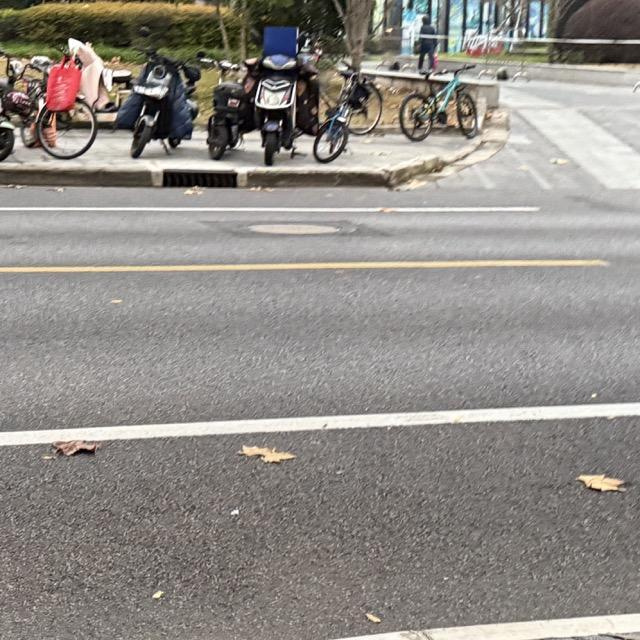curb: (0, 156, 451, 189), (527, 63, 639, 88)
